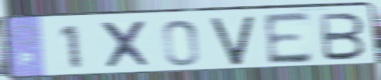0: (160, 17, 202, 68)
1: (58, 23, 86, 70)
B: (319, 12, 368, 63)
E: (261, 10, 315, 67)
V: (208, 14, 257, 67)
X: (96, 19, 157, 71)
